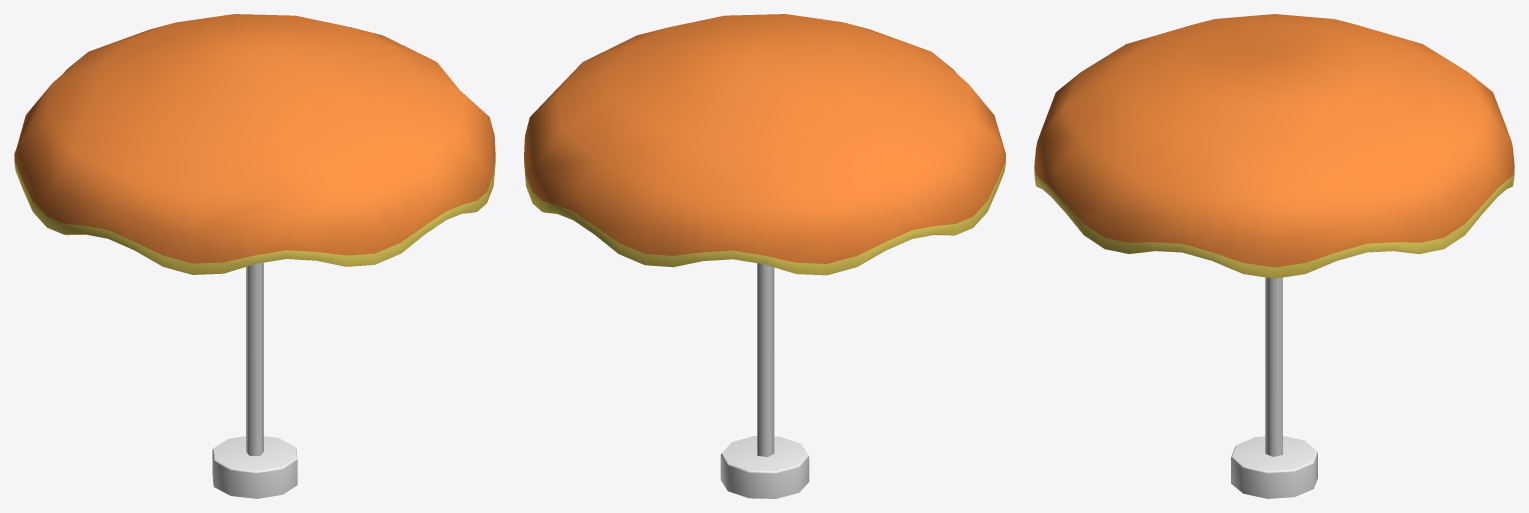
The model's file is Furniture_Decoration_01.fbx.
The picture shows the model from 3 angles, left to right: view 1: azimuth 30°, elevation 25°; view 2: azimuth 150°, elevation 25°; view 3: azimuth 270°, elevation 25°; orthographic projection.
Visible parts, largest first — view 1: Furniture_Decoration_01; view 2: Furniture_Decoration_01; view 3: Furniture_Decoration_01.
Boxes of the visible parts, bbox=[...] form: Furniture_Decoration_01: bbox=[14, 14, 495, 498]; Furniture_Decoration_01: bbox=[524, 14, 1005, 498]; Furniture_Decoration_01: bbox=[1034, 14, 1514, 498].
Size of the model in its own units: 395 by 385 by 395.
